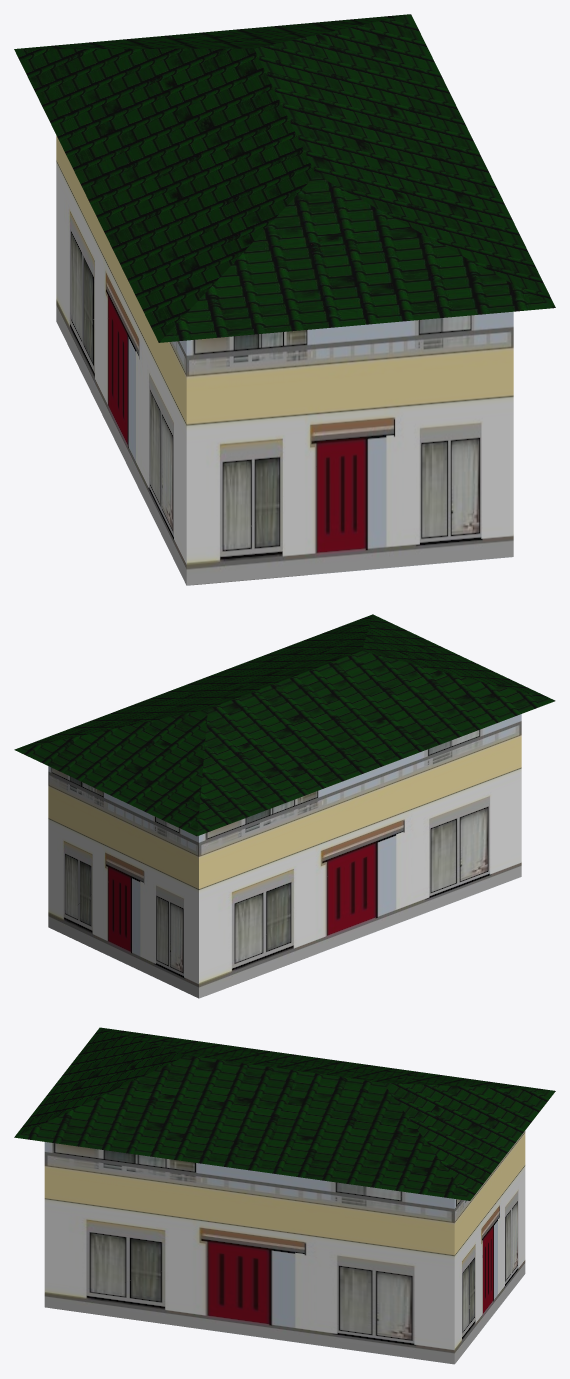
The picture shows the model from 3 angles, top to bottom: view 1: azimuth 30°, elevation 25°; view 2: azimuth 150°, elevation 25°; view 3: azimuth 270°, elevation 25°; orthographic projection. The views are drawn at different scales.
Visible parts, largest first — view 1: CityEngineMaterial_13_m, CityEngineMaterial_15_m; view 2: CityEngineMaterial_15_m, CityEngineMaterial_13_m; view 3: CityEngineMaterial_15_m, CityEngineMaterial_13_m.
Part boxes in pixels (<box>): CityEngineMaterial_13_m: <box>14,14,555,342</box>; CityEngineMaterial_15_m: <box>56,135,513,585</box>; CityEngineMaterial_15_m: <box>48,714,521,998</box>; CityEngineMaterial_13_m: <box>14,614,555,836</box>; CityEngineMaterial_15_m: <box>44,1131,525,1364</box>; CityEngineMaterial_13_m: <box>14,1027,555,1200</box>.
Bounding box in the file's own units: 15.93 × 9.48 × 21.02.
